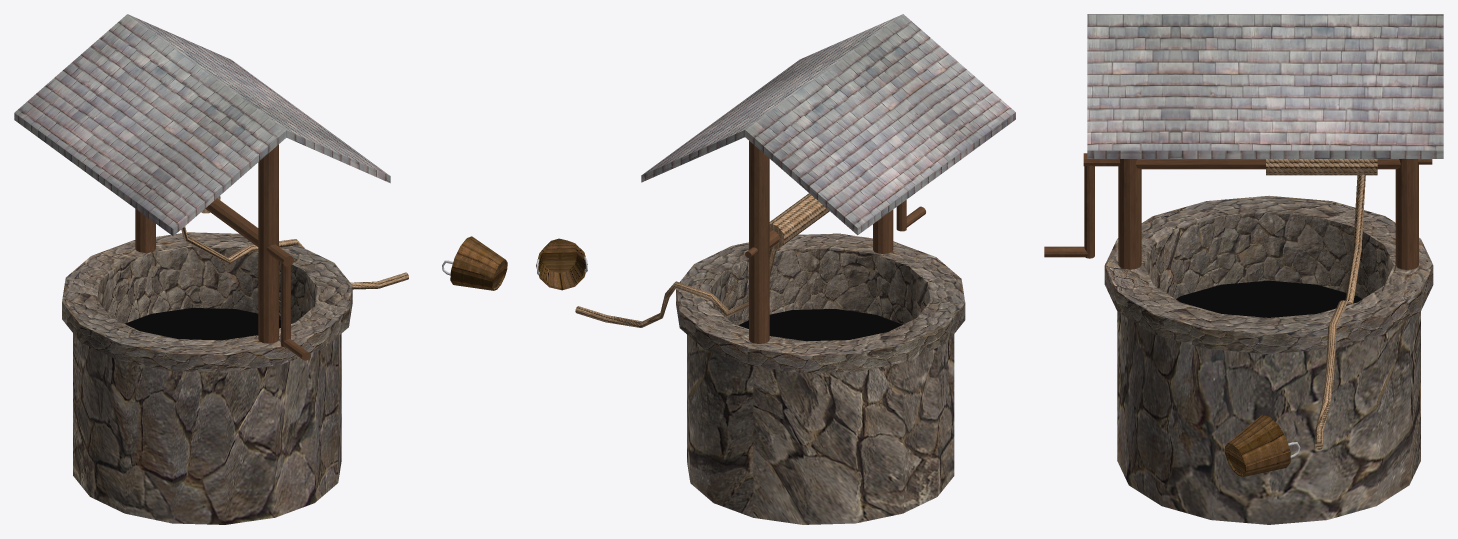
Rendered from well 1.fbx.
3 renders of one model, left to right at view 1: azimuth 30°, elevation 25°; view 2: azimuth 150°, elevation 25°; view 3: azimuth 270°, elevation 25°, orthographic. The views are drawn at different scales.
Parts seen in each view (by area): view 1: Well:polySurface1, pCube226, pCylinder35, pCylinder37, pCylinder39, pCylinder36, pCylinder44, pCylinder33; view 2: Well:polySurface1, pCube226, pCylinder33, pCylinder37, pCylinder39, pCylinder38, pCylinder35; view 3: Well:polySurface1, pCube226, pCylinder37, pCylinder33, pCylinder35, pCylinder39, pCylinder38, pCylinder36, pCylinder44, pCylinder45.
Part boxes in pixels (left/top/right/bottom): Well:polySurface1: left=62, top=232, right=352, bottom=524; pCube226: left=14, top=14, right=390, bottom=236; pCylinder35: left=258, top=144, right=278, bottom=343; pCylinder37: left=450, top=236, right=507, bottom=290; pCylinder39: left=181, top=226, right=408, bottom=289; pCylinder36: left=205, top=198, right=258, bottom=246; pCylinder44: left=281, top=263, right=290, bottom=347; pCylinder33: left=135, top=209, right=155, bottom=252; Well:polySurface1: left=676, top=233, right=965, bottom=524; pCube226: left=641, top=14, right=1015, bottom=235; pCylinder33: left=749, top=141, right=769, bottom=343; pCylinder37: left=536, top=238, right=587, bottom=290; pCylinder39: left=575, top=248, right=776, bottom=327; pCylinder38: left=769, top=193, right=829, bottom=248; pCylinder35: left=873, top=209, right=893, bottom=253; Well:polySurface1: left=1104, top=195, right=1433, bottom=524; pCube226: left=1087, top=14, right=1443, bottom=158; pCylinder37: left=1225, top=414, right=1290, bottom=476; pCylinder33: left=1395, top=159, right=1418, bottom=269; pCylinder35: left=1118, top=159, right=1141, bottom=269; pCylinder39: left=1315, top=174, right=1365, bottom=449; pCylinder38: left=1266, top=159, right=1377, bottom=175; pCylinder36: left=1135, top=159, right=1400, bottom=169; pCylinder44: left=1084, top=165, right=1094, bottom=258; pCylinder45: left=1044, top=246, right=1088, bottom=257.
Bounding box in the file's own units: 48.05 × 43.83 × 35.61.
